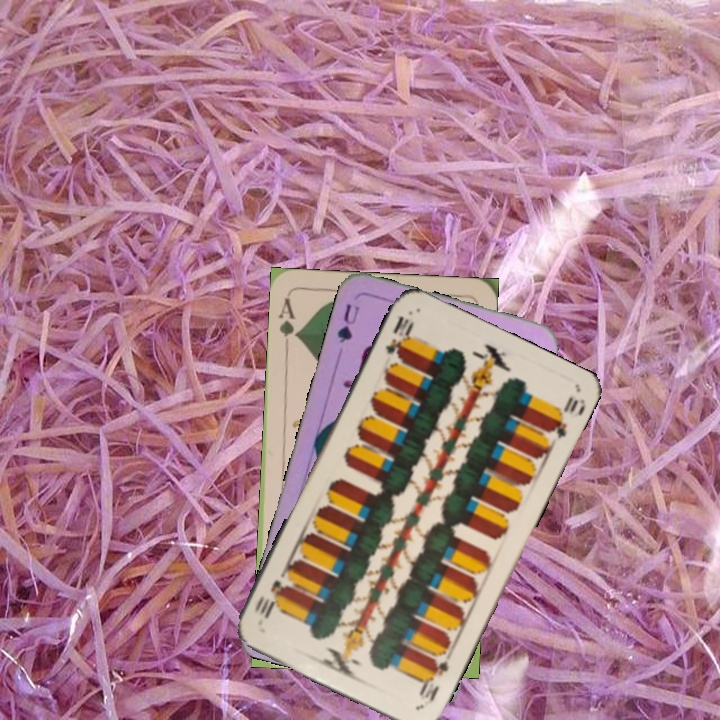E10: (415, 649, 453, 708), (381, 312, 417, 361)
GA: (275, 294, 302, 352)
GU: (333, 300, 362, 346)
